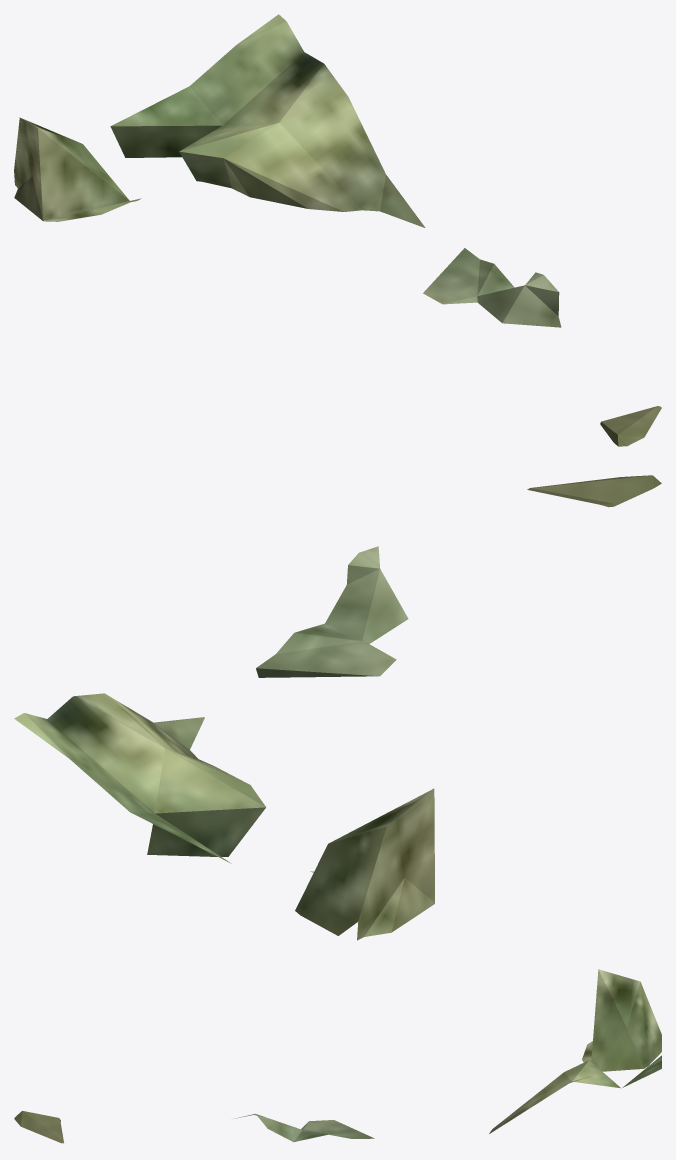
3 views of the same model, one above another, from view 1: azimuth 30°, elevation 25°; view 2: azimuth 150°, elevation 25°; view 3: azimuth 270°, elevation 25° (orthographic). The views are drawn at different scales.
Size of the model in its own units: 6.97 by 2.51 by 18.
Materials: 1 (1 with a texture image).
